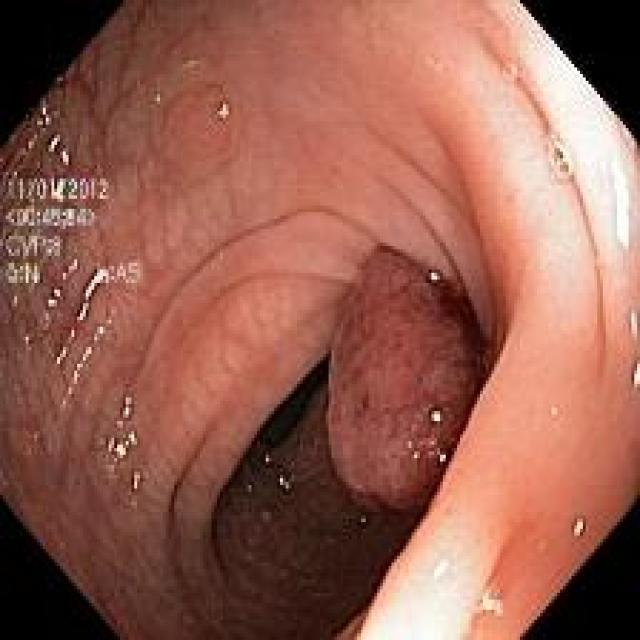Polyps: (328, 246, 486, 511)
